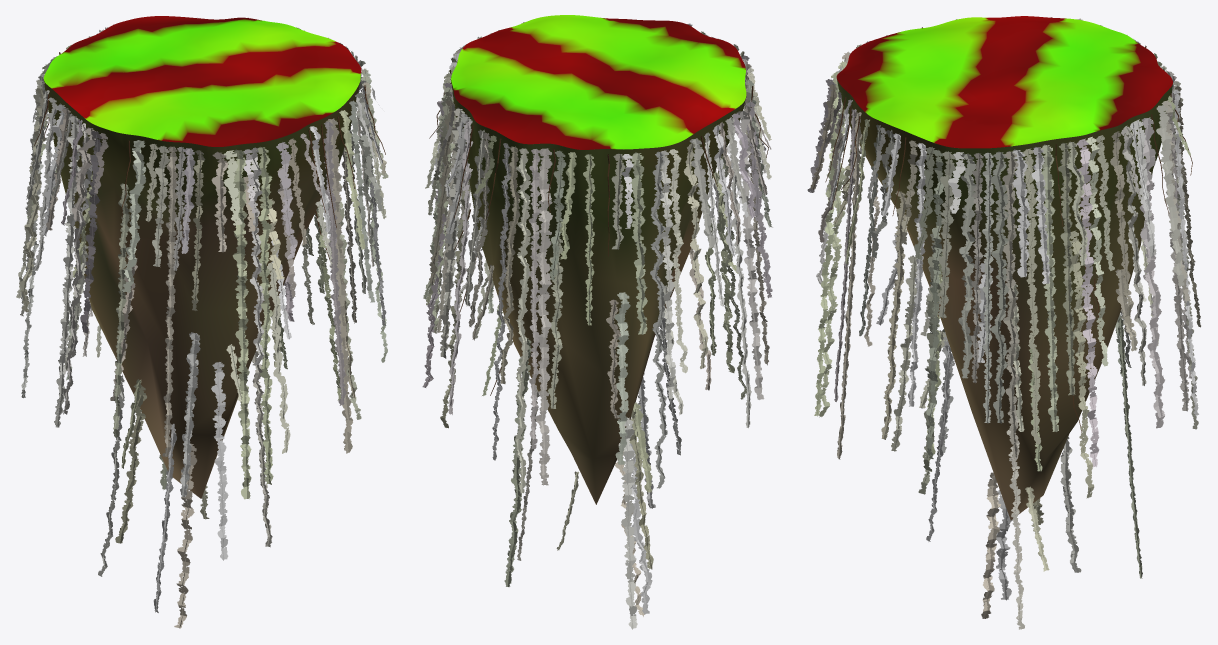
The model's file is SM_H03_Floater02.fbx.
3 views of the same model, side by side, from view 1: azimuth 30°, elevation 25°; view 2: azimuth 150°, elevation 25°; view 3: azimuth 270°, elevation 25° (orthographic). The views are drawn at different scales.
Parts seen in each view (by area): view 1: SM_H03_Floater02, SM_H03_Floater02_Ivy; view 2: SM_H03_Floater02, SM_H03_Floater02_Ivy; view 3: SM_H03_Floater02_Ivy, SM_H03_Floater02.
Part boxes in pixels (x1,y1,x2,y2): SM_H03_Floater02: (43,16,361,498); SM_H03_Floater02_Ivy: (16,17,388,628); SM_H03_Floater02: (451,15,746,504); SM_H03_Floater02_Ivy: (422,22,772,629); SM_H03_Floater02_Ivy: (807,17,1200,629); SM_H03_Floater02: (836,16,1172,520).
Bounding box in the file's own units: 29.18 × 47.72 × 30.53.
